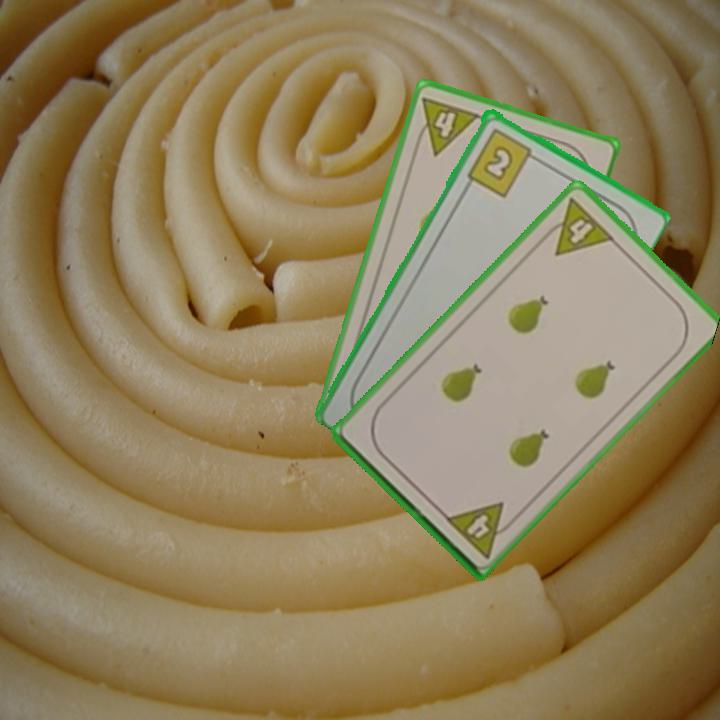2b: (463, 124, 542, 199)
4p: (536, 193, 617, 259), (441, 498, 520, 561), (410, 93, 483, 158)
